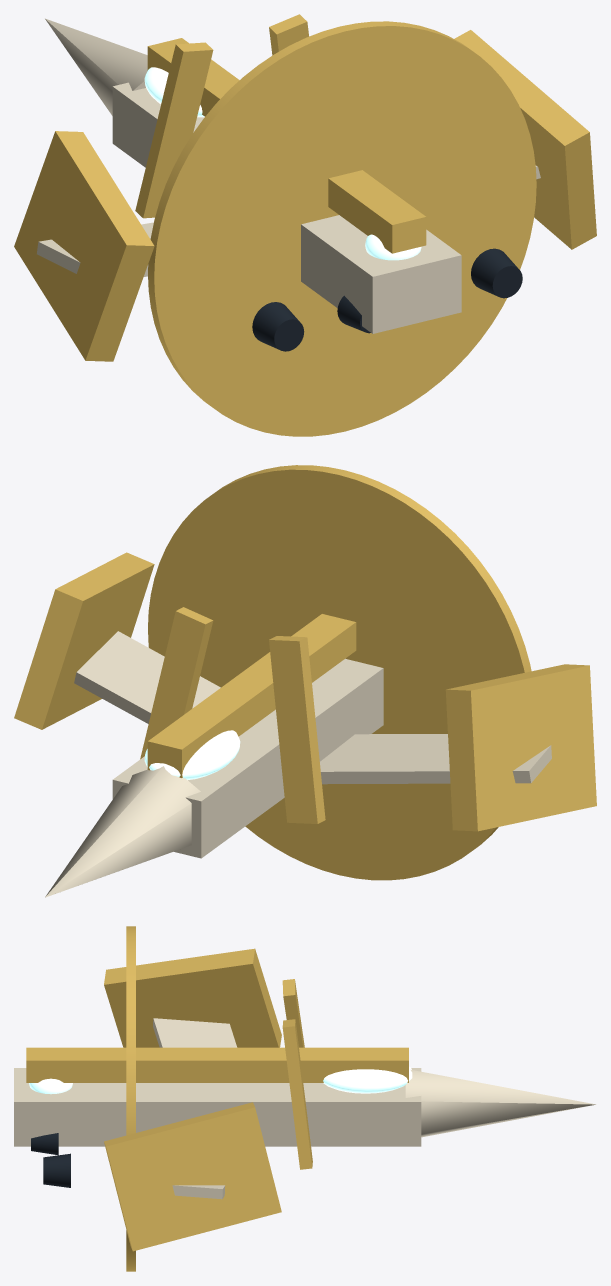
The model's file is horizon-ark.glb.
The picture shows the model from 3 angles, top to bottom: view 1: azimuth 30°, elevation 25°; view 2: azimuth 150°, elevation 25°; view 3: azimuth 270°, elevation 25°; orthographic projection. The views are drawn at different scales.
Visible parts, largest first — view 1: horizon halo array, outer sensor vane -1, long central explorer spine, outer sensor vane 1, gold dorsal keel, vertical sensor fin -1, elegant explorer prow, outer micro thruster 1, outer micro thruster -1, vertical sensor fin 1, swept exploration wing -1, aft sensor jewel (+2 smaller); view 2: horizon halo array, outer sensor vane -1, long central explorer spine, outer sensor vane 1, elegant explorer prow, gold dorsal keel, vertical sensor fin -1, swept exploration wing -1, swept exploration wing 1, vertical sensor fin 1, forward observation canopy; view 3: long central explorer spine, outer sensor vane 1, gold dorsal keel, outer sensor vane -1, elegant explorer prow, horizon halo array, vertical sensor fin 1, swept exploration wing -1, forward observation canopy, outer micro thruster 1, vertical sensor fin -1, swept exploration wing 1 (+2 smaller).
Part boxes in pixels (bbox=[...]): horizon halo array: bbox=[148, 21, 536, 436]; outer sensor vane -1: bbox=[14, 131, 154, 361]; long central explorer spine: bbox=[112, 82, 461, 333]; outer sensor vane 1: bbox=[454, 30, 596, 249]; gold dorsal keel: bbox=[147, 38, 426, 253]; vertical sensor fin -1: bbox=[135, 42, 213, 218]; elegant explorer prow: bbox=[45, 18, 147, 115]; outer micro thruster 1: bbox=[471, 248, 522, 298]; outer micro thruster -1: bbox=[252, 302, 304, 351]; vertical sensor fin 1: bbox=[269, 14, 308, 55]; swept exploration wing -1: bbox=[37, 222, 153, 276]; aft sensor jewel: bbox=[365, 234, 421, 260]; horizon halo array: bbox=[148, 465, 531, 880]; outer sensor vane -1: bbox=[445, 664, 596, 831]; long central explorer spine: bbox=[112, 658, 383, 858]; outer sensor vane 1: bbox=[14, 552, 154, 729]; elegant explorer prow: bbox=[45, 766, 200, 897]; gold dorsal keel: bbox=[147, 614, 356, 777]; vertical sensor fin -1: bbox=[269, 636, 325, 823]; swept exploration wing -1: bbox=[320, 734, 551, 784]; swept exploration wing 1: bbox=[74, 631, 220, 723]; vertical sensor fin 1: bbox=[140, 607, 213, 759]; forward observation canopy: bbox=[144, 730, 240, 780]; long central explorer spine: bbox=[14, 1068, 421, 1146]; outer sensor vane 1: bbox=[104, 1102, 281, 1251]; gold dorsal keel: bbox=[26, 1047, 408, 1082]; outer sensor vane -1: bbox=[104, 948, 281, 1047]; elegant explorer prow: bbox=[405, 1070, 596, 1137]; horizon halo array: bbox=[126, 926, 135, 1271]; vertical sensor fin 1: bbox=[282, 1019, 312, 1169]; swept exploration wing -1: bbox=[153, 1018, 237, 1047]; forward observation canopy: bbox=[323, 1066, 412, 1093]; outer micro thruster 1: bbox=[43, 1153, 70, 1187]; vertical sensor fin -1: bbox=[282, 979, 304, 1047]; swept exploration wing 1: bbox=[172, 1185, 225, 1199].
Size of the model in its own units: 67.42 by 50.4 by 85.05.
